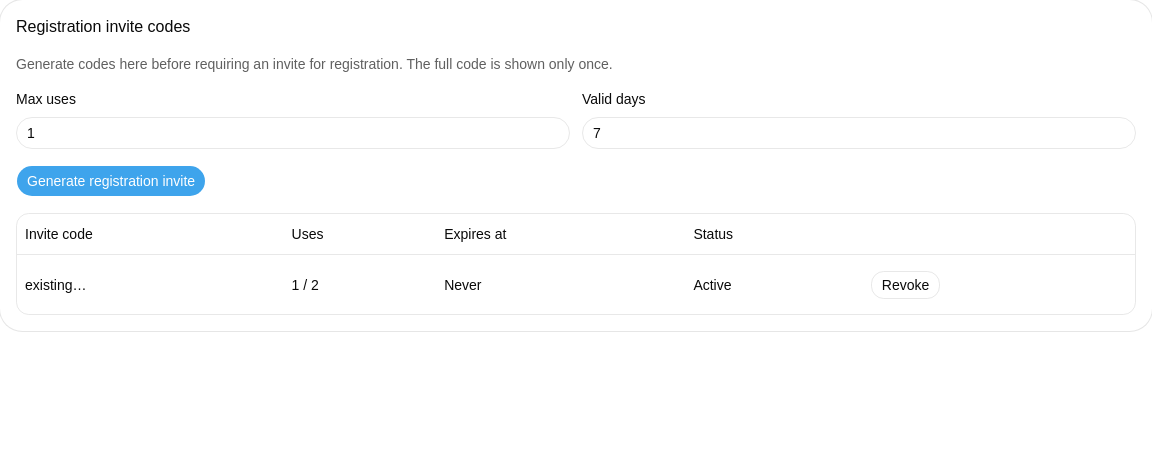
creates and revokes registration invites from authentication settings
Later steps or results of the test are not shown.
Expected: the text "existing…" is shown, [25,276,86,292]
Click the button "Generate registration invite". click: coordinates (111, 181)
box: [16,165,206,197]
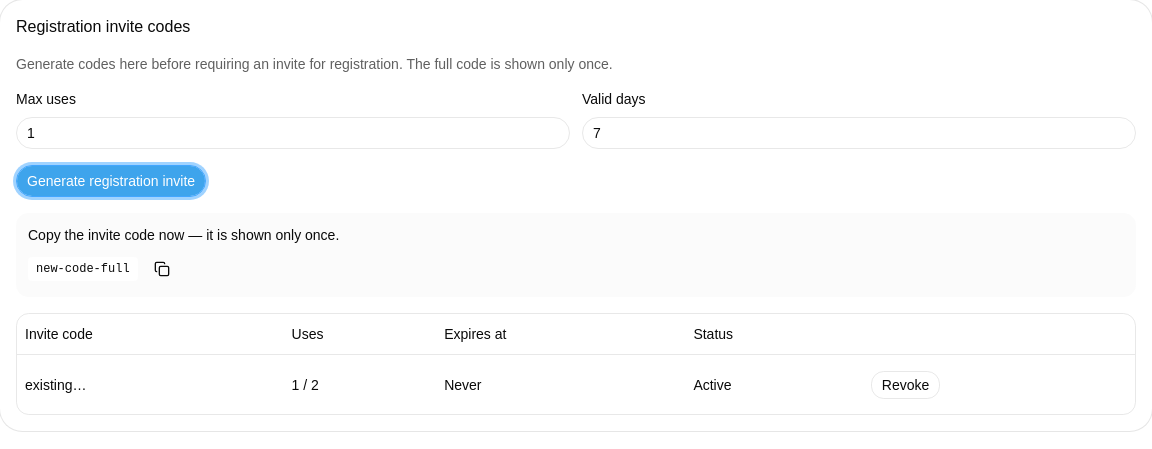
Result: the text "new-code-full" is shown at [28,257,138,281]
